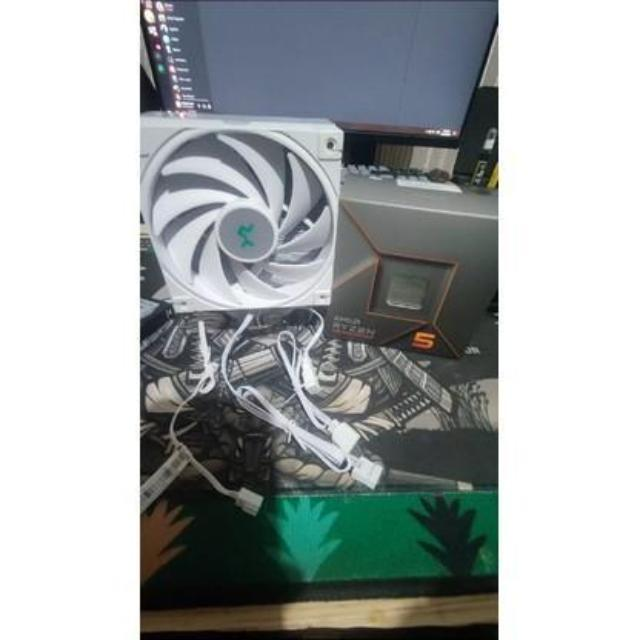CPU_Fan: (138, 112, 338, 310)
